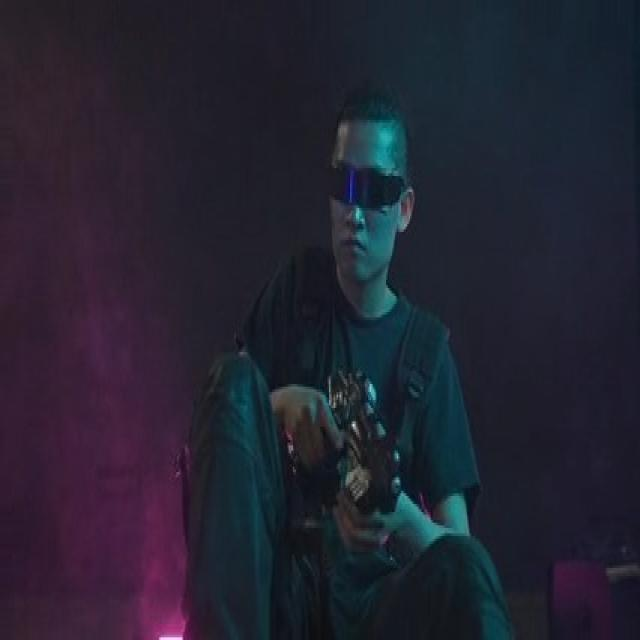Gun_Holder: (297, 358, 422, 540)
Person: (172, 69, 509, 640)
